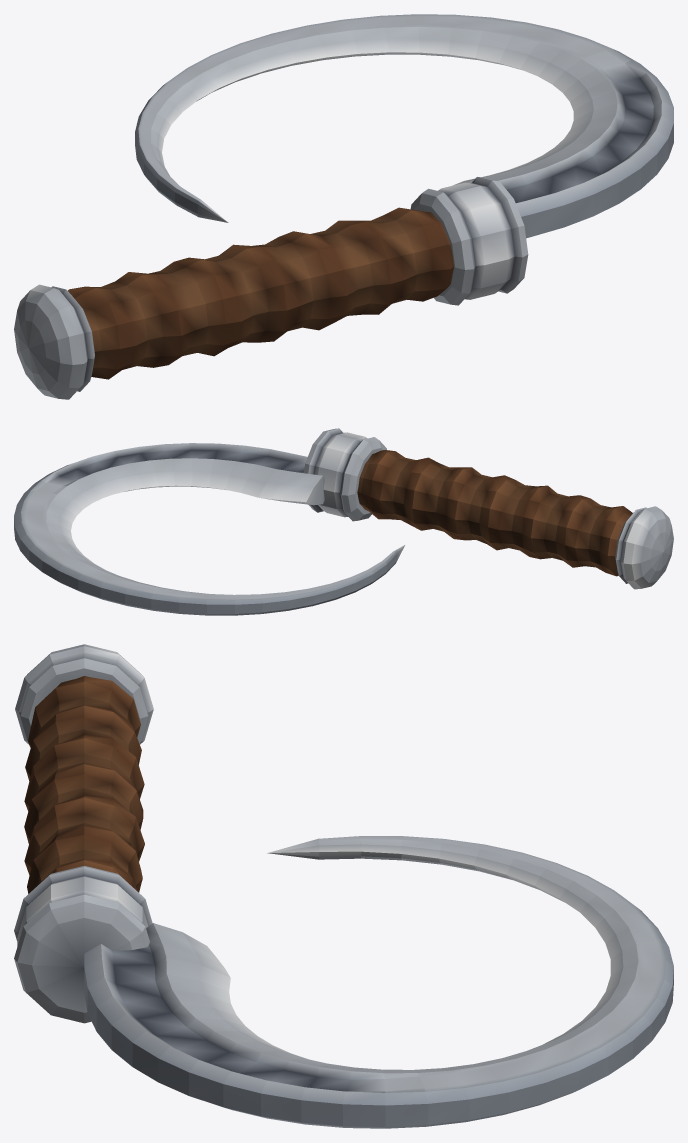
The model's file is TwinSickles.fbx.
3 renders of one model, top to bottom at view 1: azimuth 30°, elevation 25°; view 2: azimuth 150°, elevation 25°; view 3: azimuth 270°, elevation 25°, orthographic. The views are drawn at different scales.
Visible parts, largest first — view 1: TwinBlade, TwinHandle, TwinPommel; view 2: TwinBlade, TwinHandle, TwinPommel; view 3: TwinBlade, TwinHandle, TwinPommel.
Part boxes in pixels (box(x1,y1,x2,y2)): TwinBlade: box(135, 14, 673, 305); TwinHandle: box(68, 207, 453, 379); TwinPommel: box(14, 284, 94, 399); TwinBlade: box(14, 428, 404, 615); TwinHandle: box(357, 450, 632, 576); TwinPommel: box(615, 506, 673, 589); TwinBlade: box(14, 836, 673, 1128); TwinHandle: box(24, 676, 144, 893); TwinPommel: box(15, 644, 153, 744).
Size of the model in its own units: 304 by 43 by 201.
